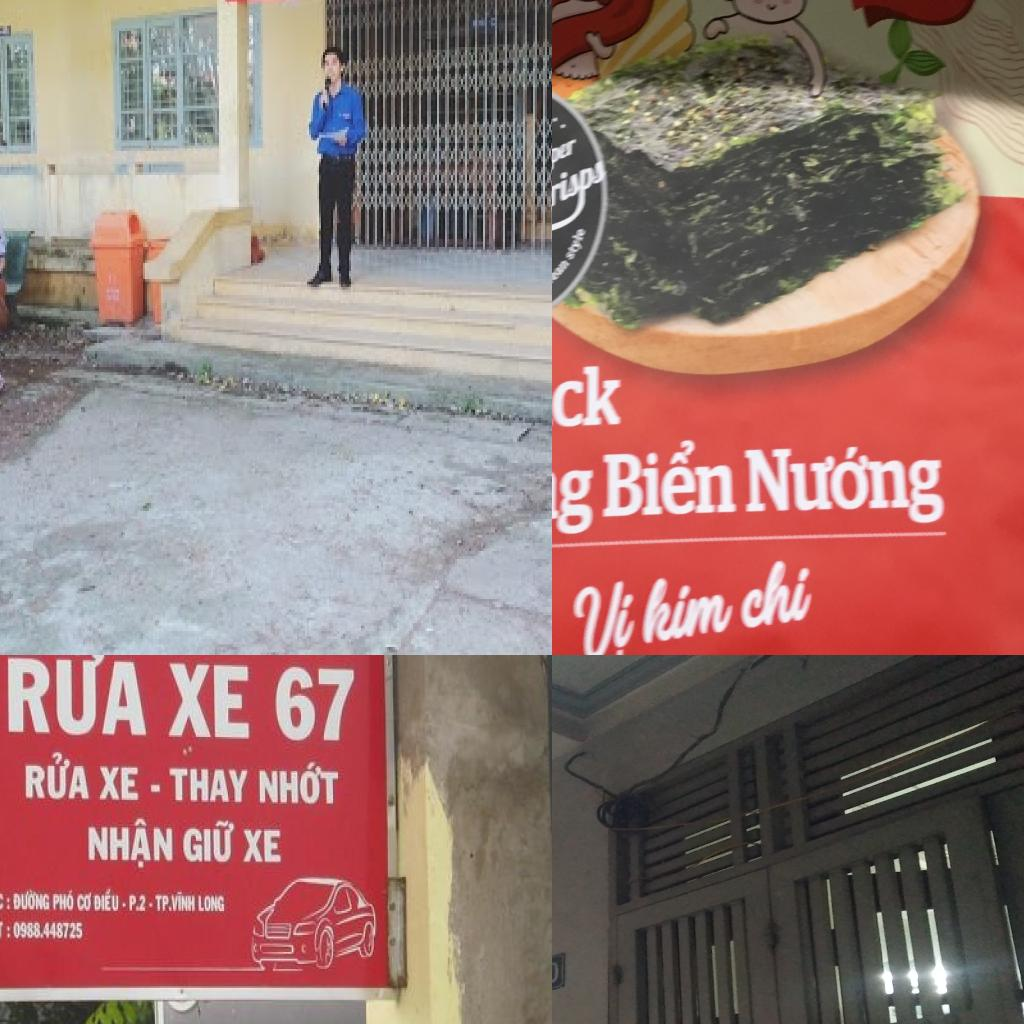text: (740, 433, 948, 536), (1, 655, 152, 745), (602, 435, 740, 529), (159, 655, 256, 749), (272, 655, 361, 751), (738, 537, 819, 640), (643, 564, 734, 655), (552, 350, 629, 443), (572, 567, 643, 655), (83, 816, 178, 875), (20, 747, 94, 807), (254, 761, 344, 810), (552, 449, 598, 544), (164, 762, 252, 810), (552, 150, 610, 221), (180, 818, 238, 868), (95, 758, 143, 808), (240, 824, 286, 870), (154, 890, 198, 918), (552, 134, 578, 180), (563, 224, 591, 266), (13, 887, 53, 916), (94, 887, 130, 918), (196, 890, 228, 918), (128, 890, 156, 918), (51, 887, 76, 915), (76, 889, 94, 916), (0, 888, 13, 916), (0, 919, 13, 943), (147, 781, 164, 797)
